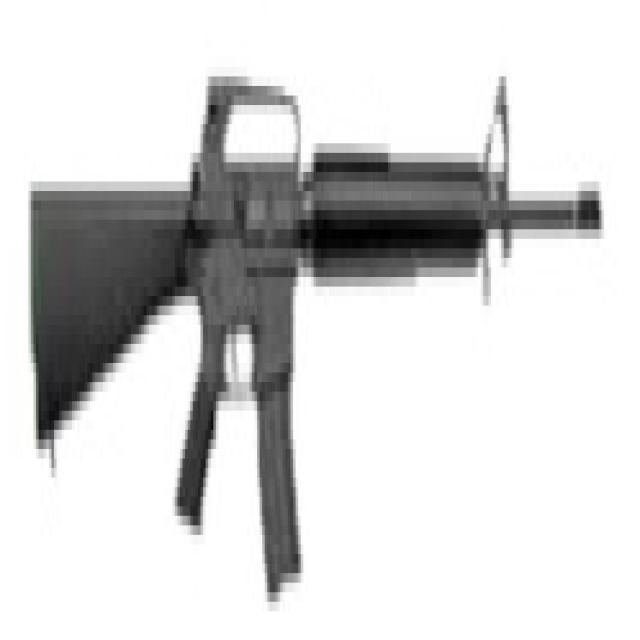rifle: (23, 35, 607, 621)
